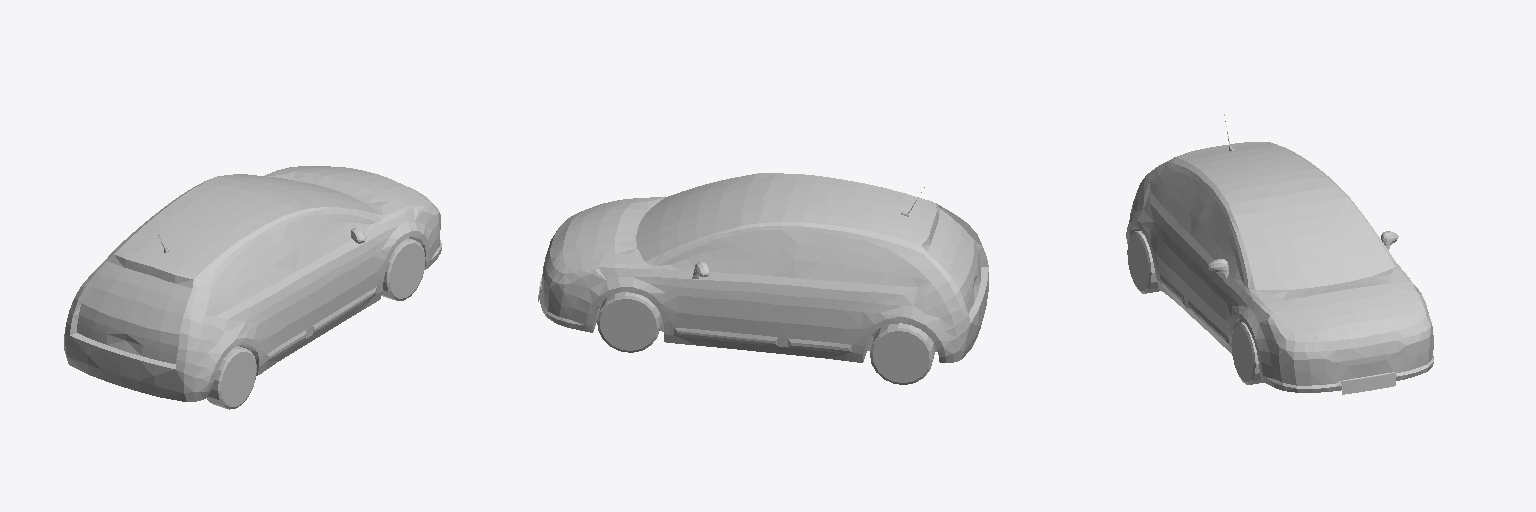
File: carsAI_000337.obj
The picture shows the model from 3 angles: view 1: azimuth 30°, elevation 25°; view 2: azimuth 150°, elevation 25°; view 3: azimuth 270°, elevation 25°; orthographic projection.
Visible parts, largest first — view 1: car_5, tire_8, tire_7; view 2: car_5, tire_6, tire_9; view 3: car_5, tire_8, tire_7.
Boxes of the visible parts, x1=… form: car_5: x1=64, y1=166, x2=441, y2=401; tire_8: x1=207, y1=346, x2=256, y2=409; tire_7: x1=381, y1=238, x2=425, y2=300; car_5: x1=538, y1=173, x2=988, y2=362; tire_6: x1=870, y1=323, x2=934, y2=384; tire_9: x1=597, y1=292, x2=661, y2=352; car_5: x1=1126, y1=114, x2=1433, y2=394; tire_8: x1=1127, y1=231, x2=1160, y2=293; tire_7: x1=1231, y1=322, x2=1263, y2=384.
Bounding box in the file's own units: 107 × 42.18 × 73.5.